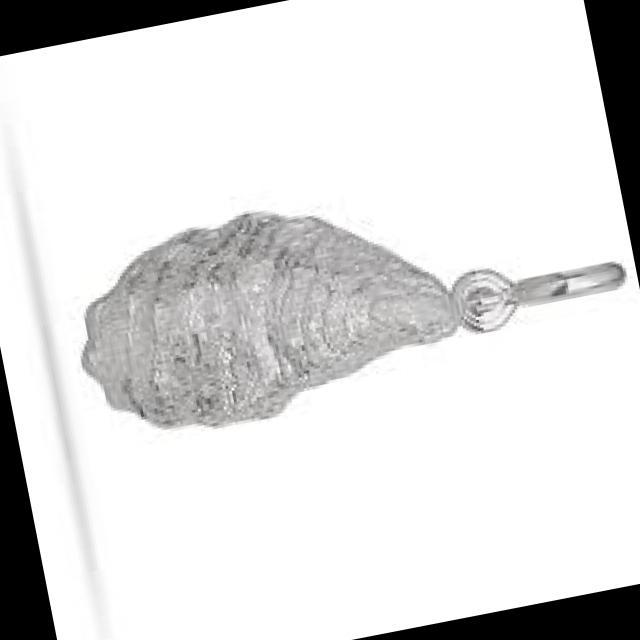Oyster- Indeterminate: (82, 214, 456, 427)
